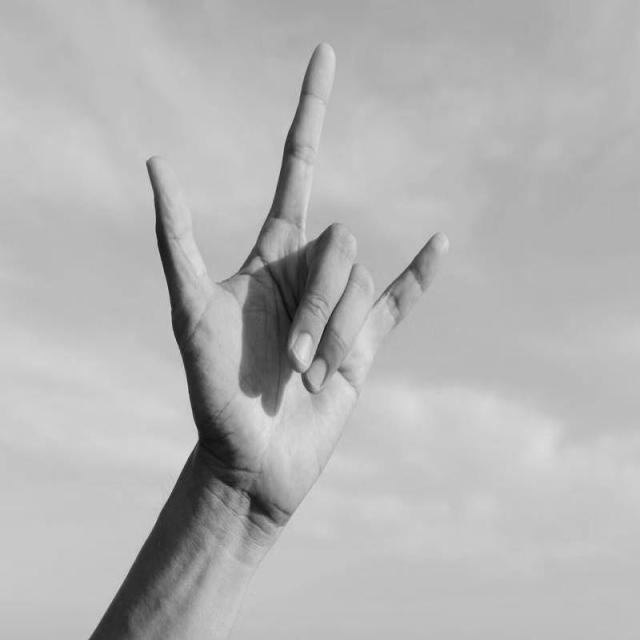i love you: (142, 34, 456, 562)
